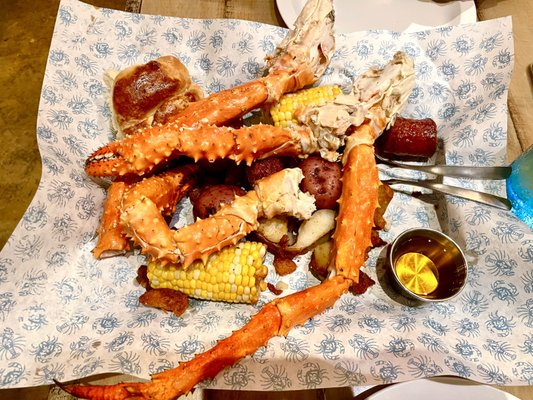sushi: (383, 228, 468, 304)
